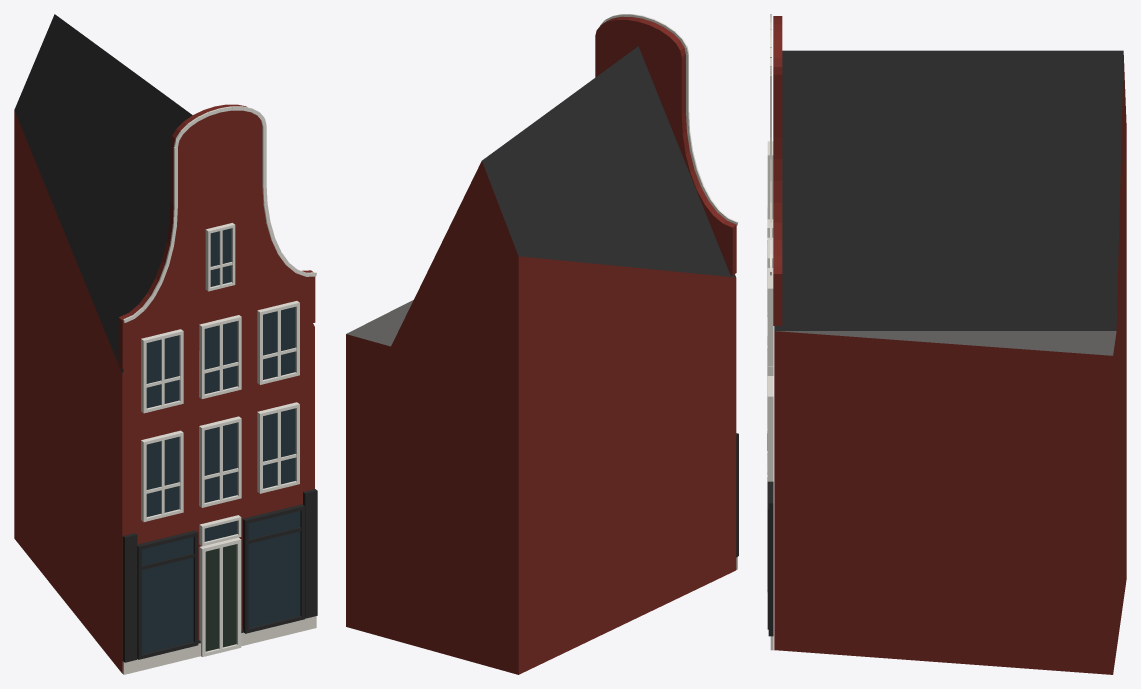
3 views of the same model, side by side, from view 1: azimuth 30°, elevation 25°; view 2: azimuth 150°, elevation 25°; view 3: azimuth 270°, elevation 25° (orthographic). The views are drawn at different scales.
Parts seen in each view (by area): view 1: spec-0363100012182308; view 2: spec-0363100012182308; view 3: spec-0363100012182308.
Part boxes in pixels (x1,y1,x2,y2): spec-0363100012182308: [14, 14, 317, 674]; spec-0363100012182308: [346, 14, 738, 674]; spec-0363100012182308: [767, 14, 1126, 674].
Size of the model in its own units: 5.85 by 12.62 by 7.11.
